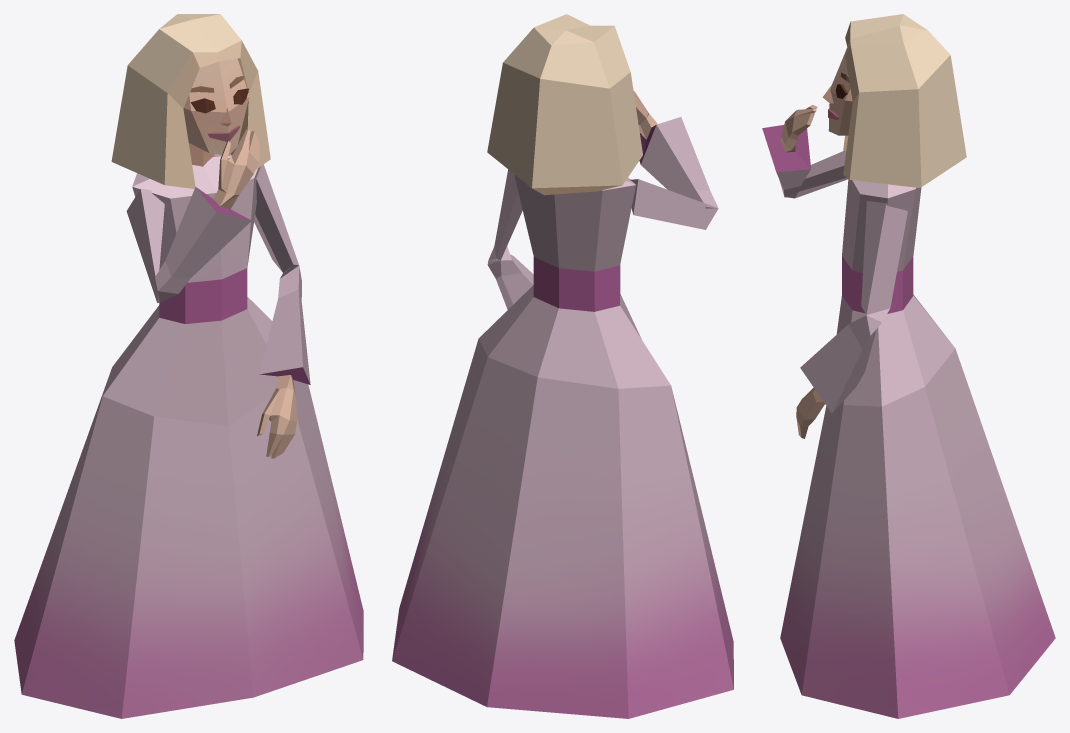
Rendered from guest_fem_1_-_medieval_fantasy_challenge (1).glb.
3 renders of one model, left to right at view 1: azimuth 30°, elevation 25°; view 2: azimuth 150°, elevation 25°; view 3: azimuth 270°, elevation 25°, orthographic. The views are drawn at different scales.
Visible parts, largest first — view 1: Object_2; view 2: Object_2; view 3: Object_2.
Part boxes in pixels (left/top/right/bottom): Object_2: left=14, top=14, right=363, bottom=718; Object_2: left=392, top=14, right=733, bottom=718; Object_2: left=762, top=14, right=1055, bottom=718.
Bounding box in the file's own units: 0.8982 × 1.59 × 0.6896.
1 material, 1 textured.
